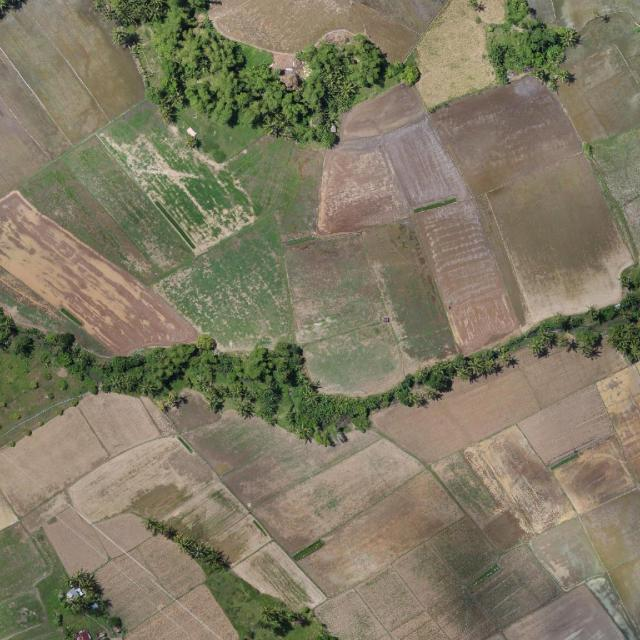agricultural_land: (95, 85, 263, 264), (150, 215, 327, 384), (484, 149, 640, 329), (19, 150, 162, 311), (429, 63, 585, 201), (61, 133, 196, 278), (283, 232, 393, 400), (415, 195, 522, 355), (61, 427, 219, 526), (360, 215, 458, 370), (0, 403, 111, 518), (0, 266, 113, 378), (90, 531, 196, 633), (307, 134, 410, 236), (377, 113, 471, 222), (301, 320, 408, 409), (232, 535, 327, 632), (76, 376, 160, 463), (217, 127, 294, 221), (165, 476, 249, 556), (132, 525, 209, 604), (563, 4, 640, 81), (40, 503, 110, 582), (272, 143, 326, 244), (0, 265, 63, 328), (128, 472, 190, 529), (210, 512, 271, 569), (95, 507, 154, 560), (20, 491, 73, 535), (0, 492, 19, 530), (531, 0, 548, 19), (46, 516, 58, 526)
greenland: (0, 309, 528, 474), (0, 524, 123, 640), (528, 331, 548, 358)
